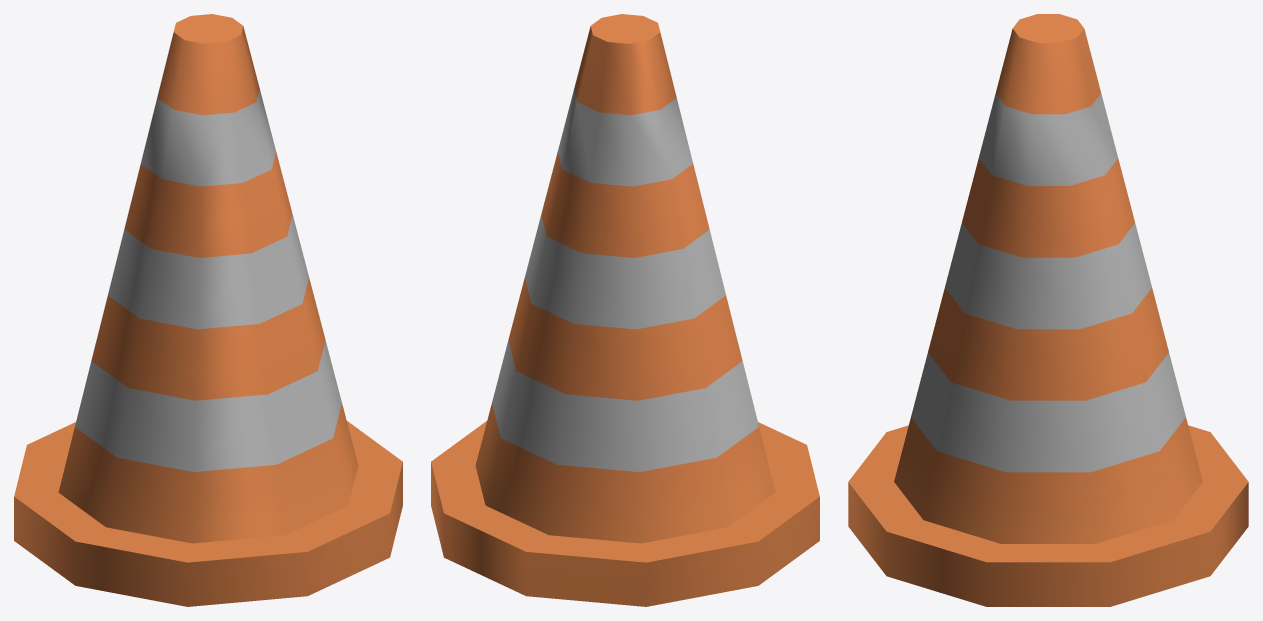
The model's file is Props_Traffic cone.fbx.
3 renders of one model, left to right at view 1: azimuth 30°, elevation 25°; view 2: azimuth 150°, elevation 25°; view 3: azimuth 270°, elevation 25°, orthographic.
Parts seen in each view (by area): view 1: Props_Traffic_cone; view 2: Props_Traffic_cone; view 3: Props_Traffic_cone.
Boxes of the visible parts, bbox=[...] form: Props_Traffic_cone: bbox=[14, 14, 402, 606]; Props_Traffic_cone: bbox=[431, 14, 819, 606]; Props_Traffic_cone: bbox=[848, 14, 1248, 606].
Bounding box in the file's own units: 78.49 × 113 × 82.53.
1 material, 1 textured.
